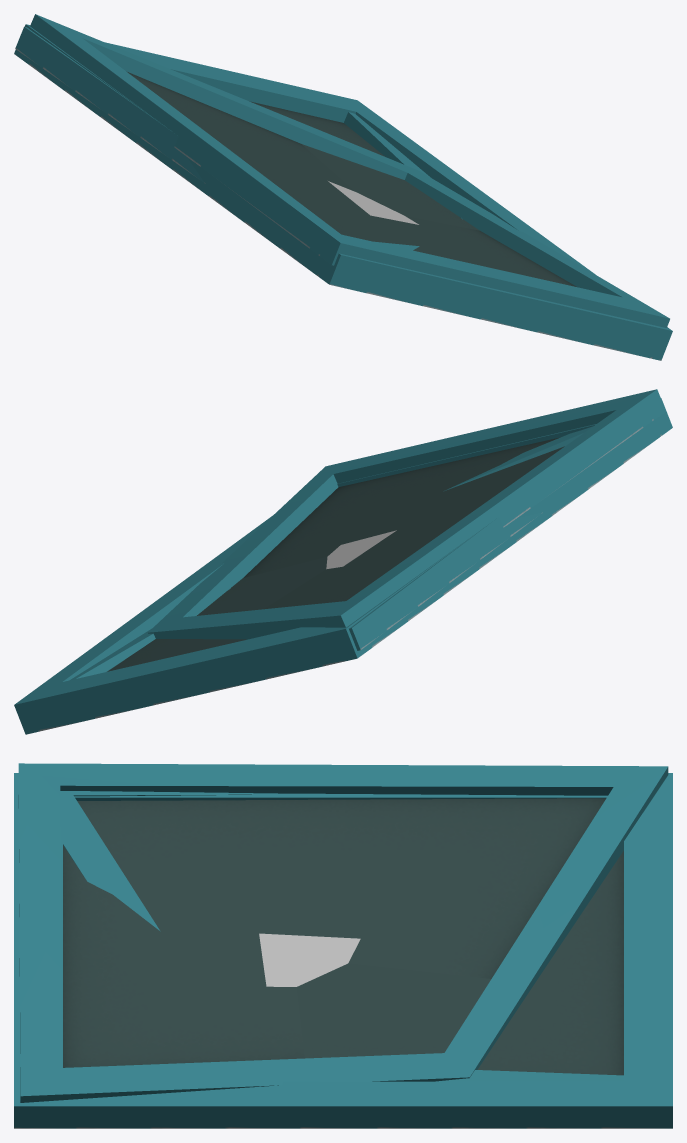
File: EXP_CONSOLE_Door_7.fbx
3 views of the same model, one above another, from view 1: azimuth 30°, elevation 25°; view 2: azimuth 150°, elevation 25°; view 3: azimuth 270°, elevation 25° (orthographic). The views are drawn at different scales.
Parts seen in each view (by area): view 1: polySurface50, polySurface51, Left_Console_Door; view 2: polySurface50, polySurface51, Left_Console_Door; view 3: polySurface50, polySurface51, Left_Console_Door.
Boxes of the visible parts, x1,y1,x2,y2 form: polySurface50: (30, 14, 669, 327); polySurface51: (14, 24, 672, 360); Left_Console_Door: (15, 26, 462, 250); polySurface50: (148, 389, 665, 639); polySurface51: (14, 398, 672, 734); Left_Console_Door: (70, 426, 592, 680); polySurface50: (18, 763, 668, 1102); polySurface51: (14, 773, 672, 1128); Left_Console_Door: (60, 791, 623, 1081).
Size of the model in its own units: 563 by 302 by 891.
